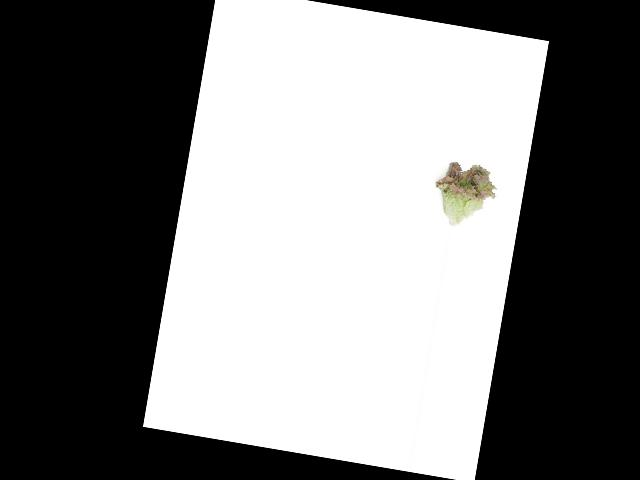lettuce: (423, 149, 504, 234)
